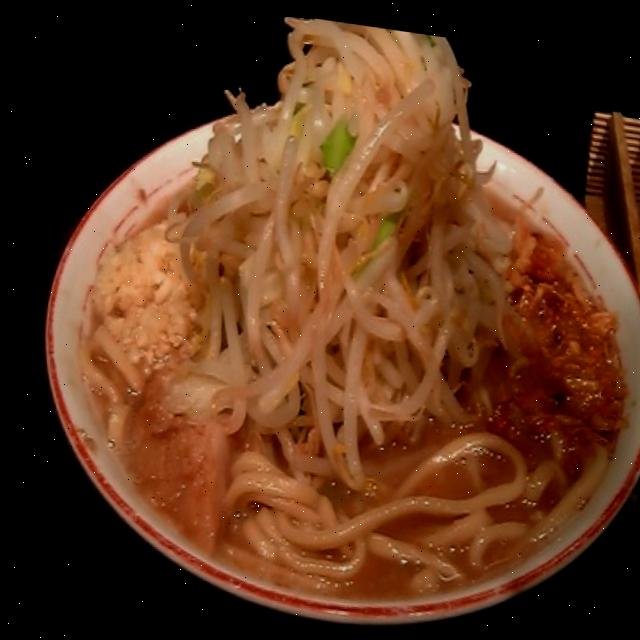面条主食: (1, 0, 640, 640)
